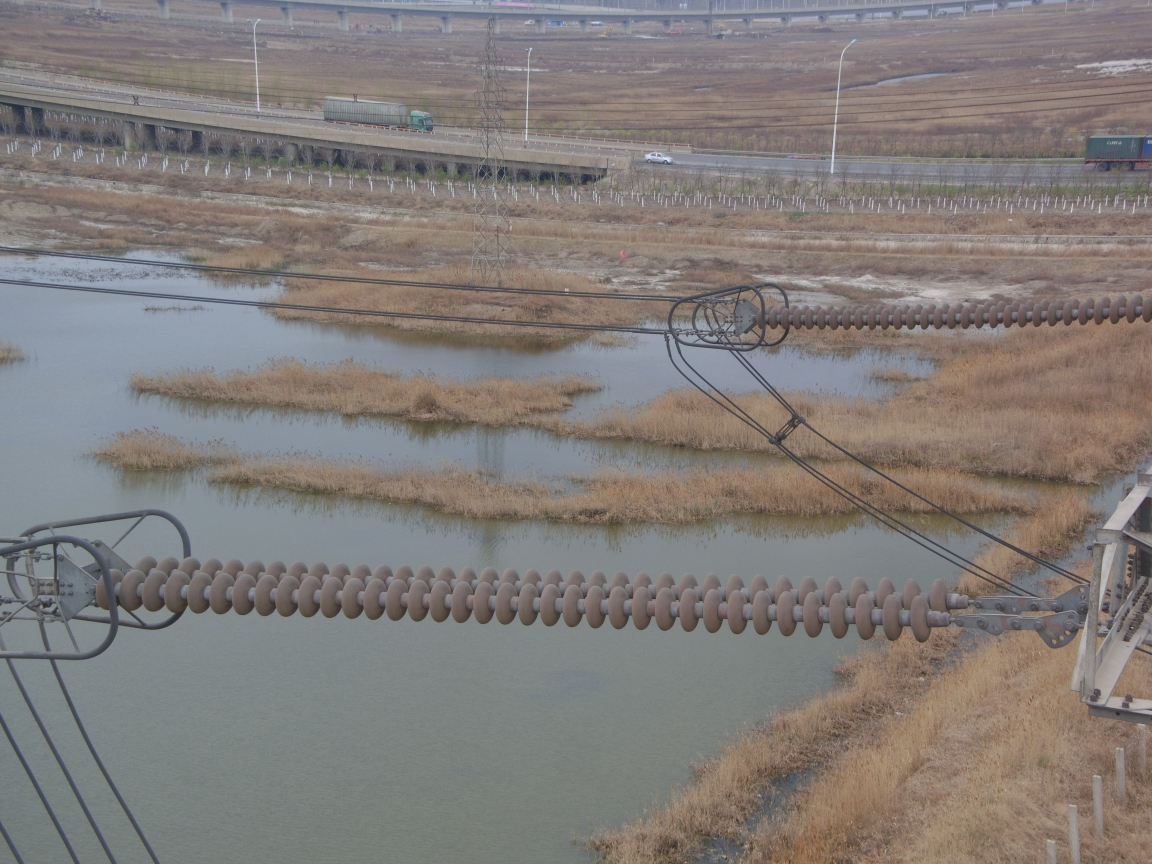insulator: (82, 548, 1049, 644), (749, 293, 1152, 336)
